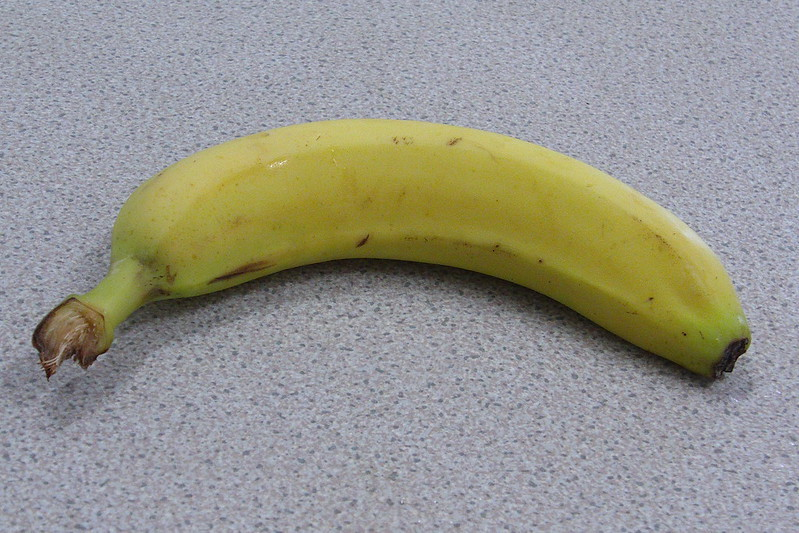banana: (98, 110, 749, 373)
